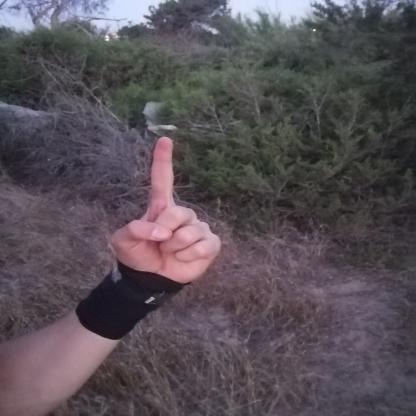BAA: (98, 129, 230, 292)
